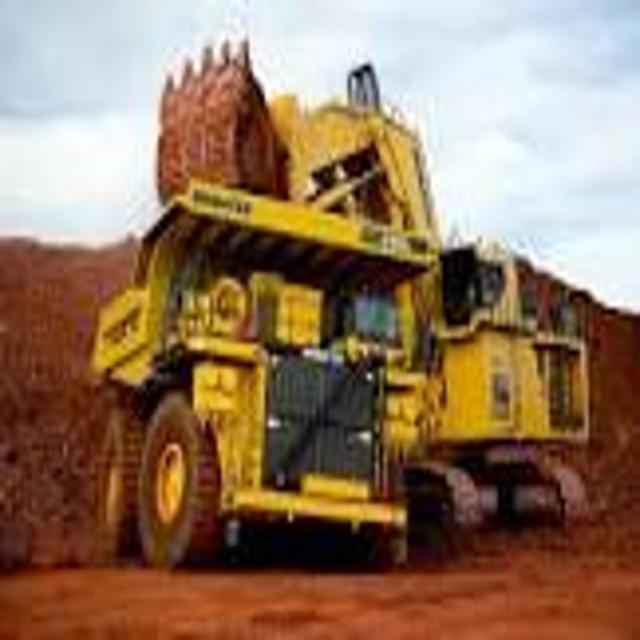dump_truck: (80, 179, 450, 602)
